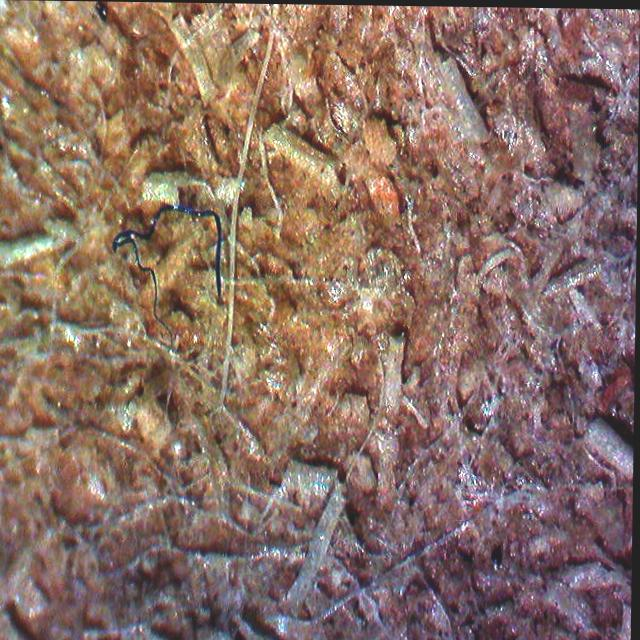microplastic: (113, 203, 223, 346)
